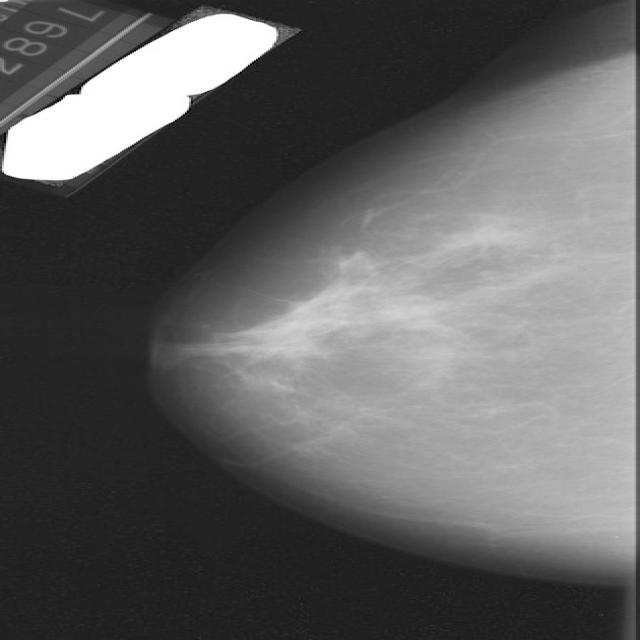tumour: (226, 304, 342, 364)
